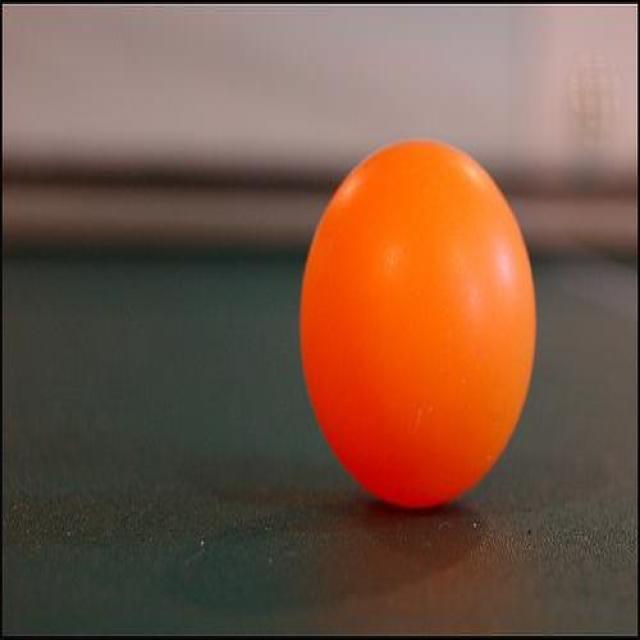ping-pong-ball: (297, 132, 541, 516)
